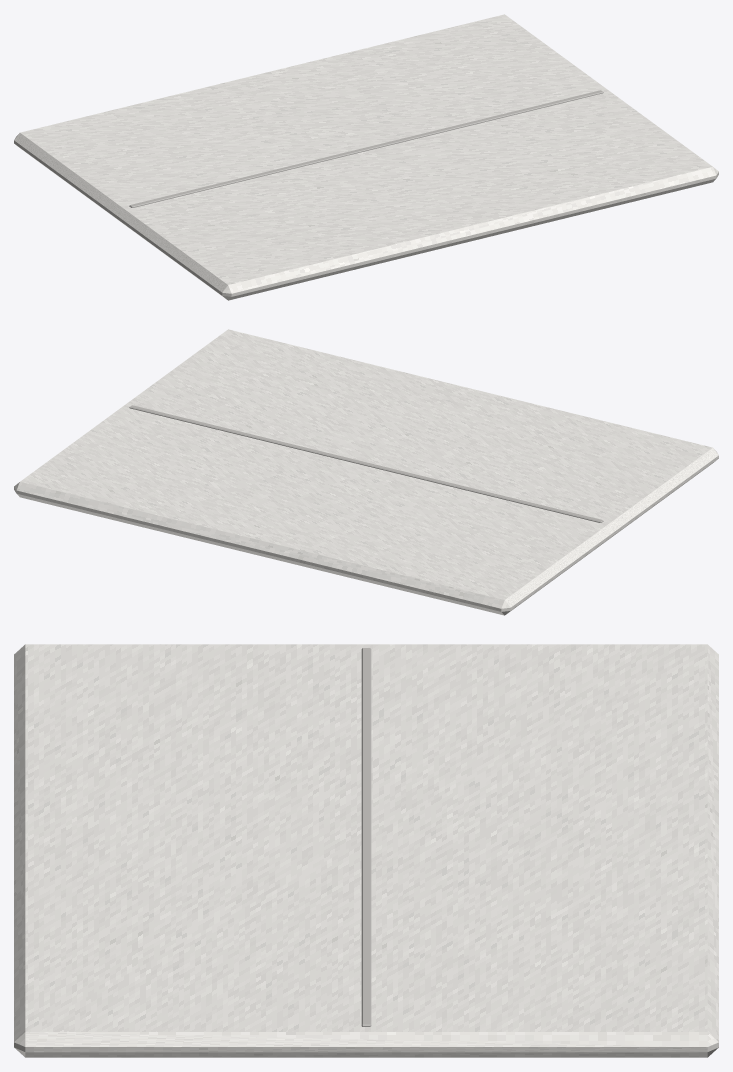
File: pillowcase.glb
The picture shows the model from 3 angles, top to bottom: view 1: azimuth 30°, elevation 25°; view 2: azimuth 150°, elevation 25°; view 3: azimuth 270°, elevation 25°; orthographic projection. The views are drawn at different scales.
Visible parts, largest first — view 1: block_body, block_fold; view 2: block_body, block_fold; view 3: block_body, block_fold.
Part boxes in pixels (<box>): block_body: <box>14,14,718,300</box>; block_fold: <box>129,90,603,207</box>; block_body: <box>14,329,718,615</box>; block_fold: <box>129,405,603,522</box>; block_body: <box>14,644,718,1057</box>; block_fold: <box>361,648,371,1026</box>.
Size of the model in its own units: 0.4 by 0.013 by 0.3.
1 material, 1 textured.
